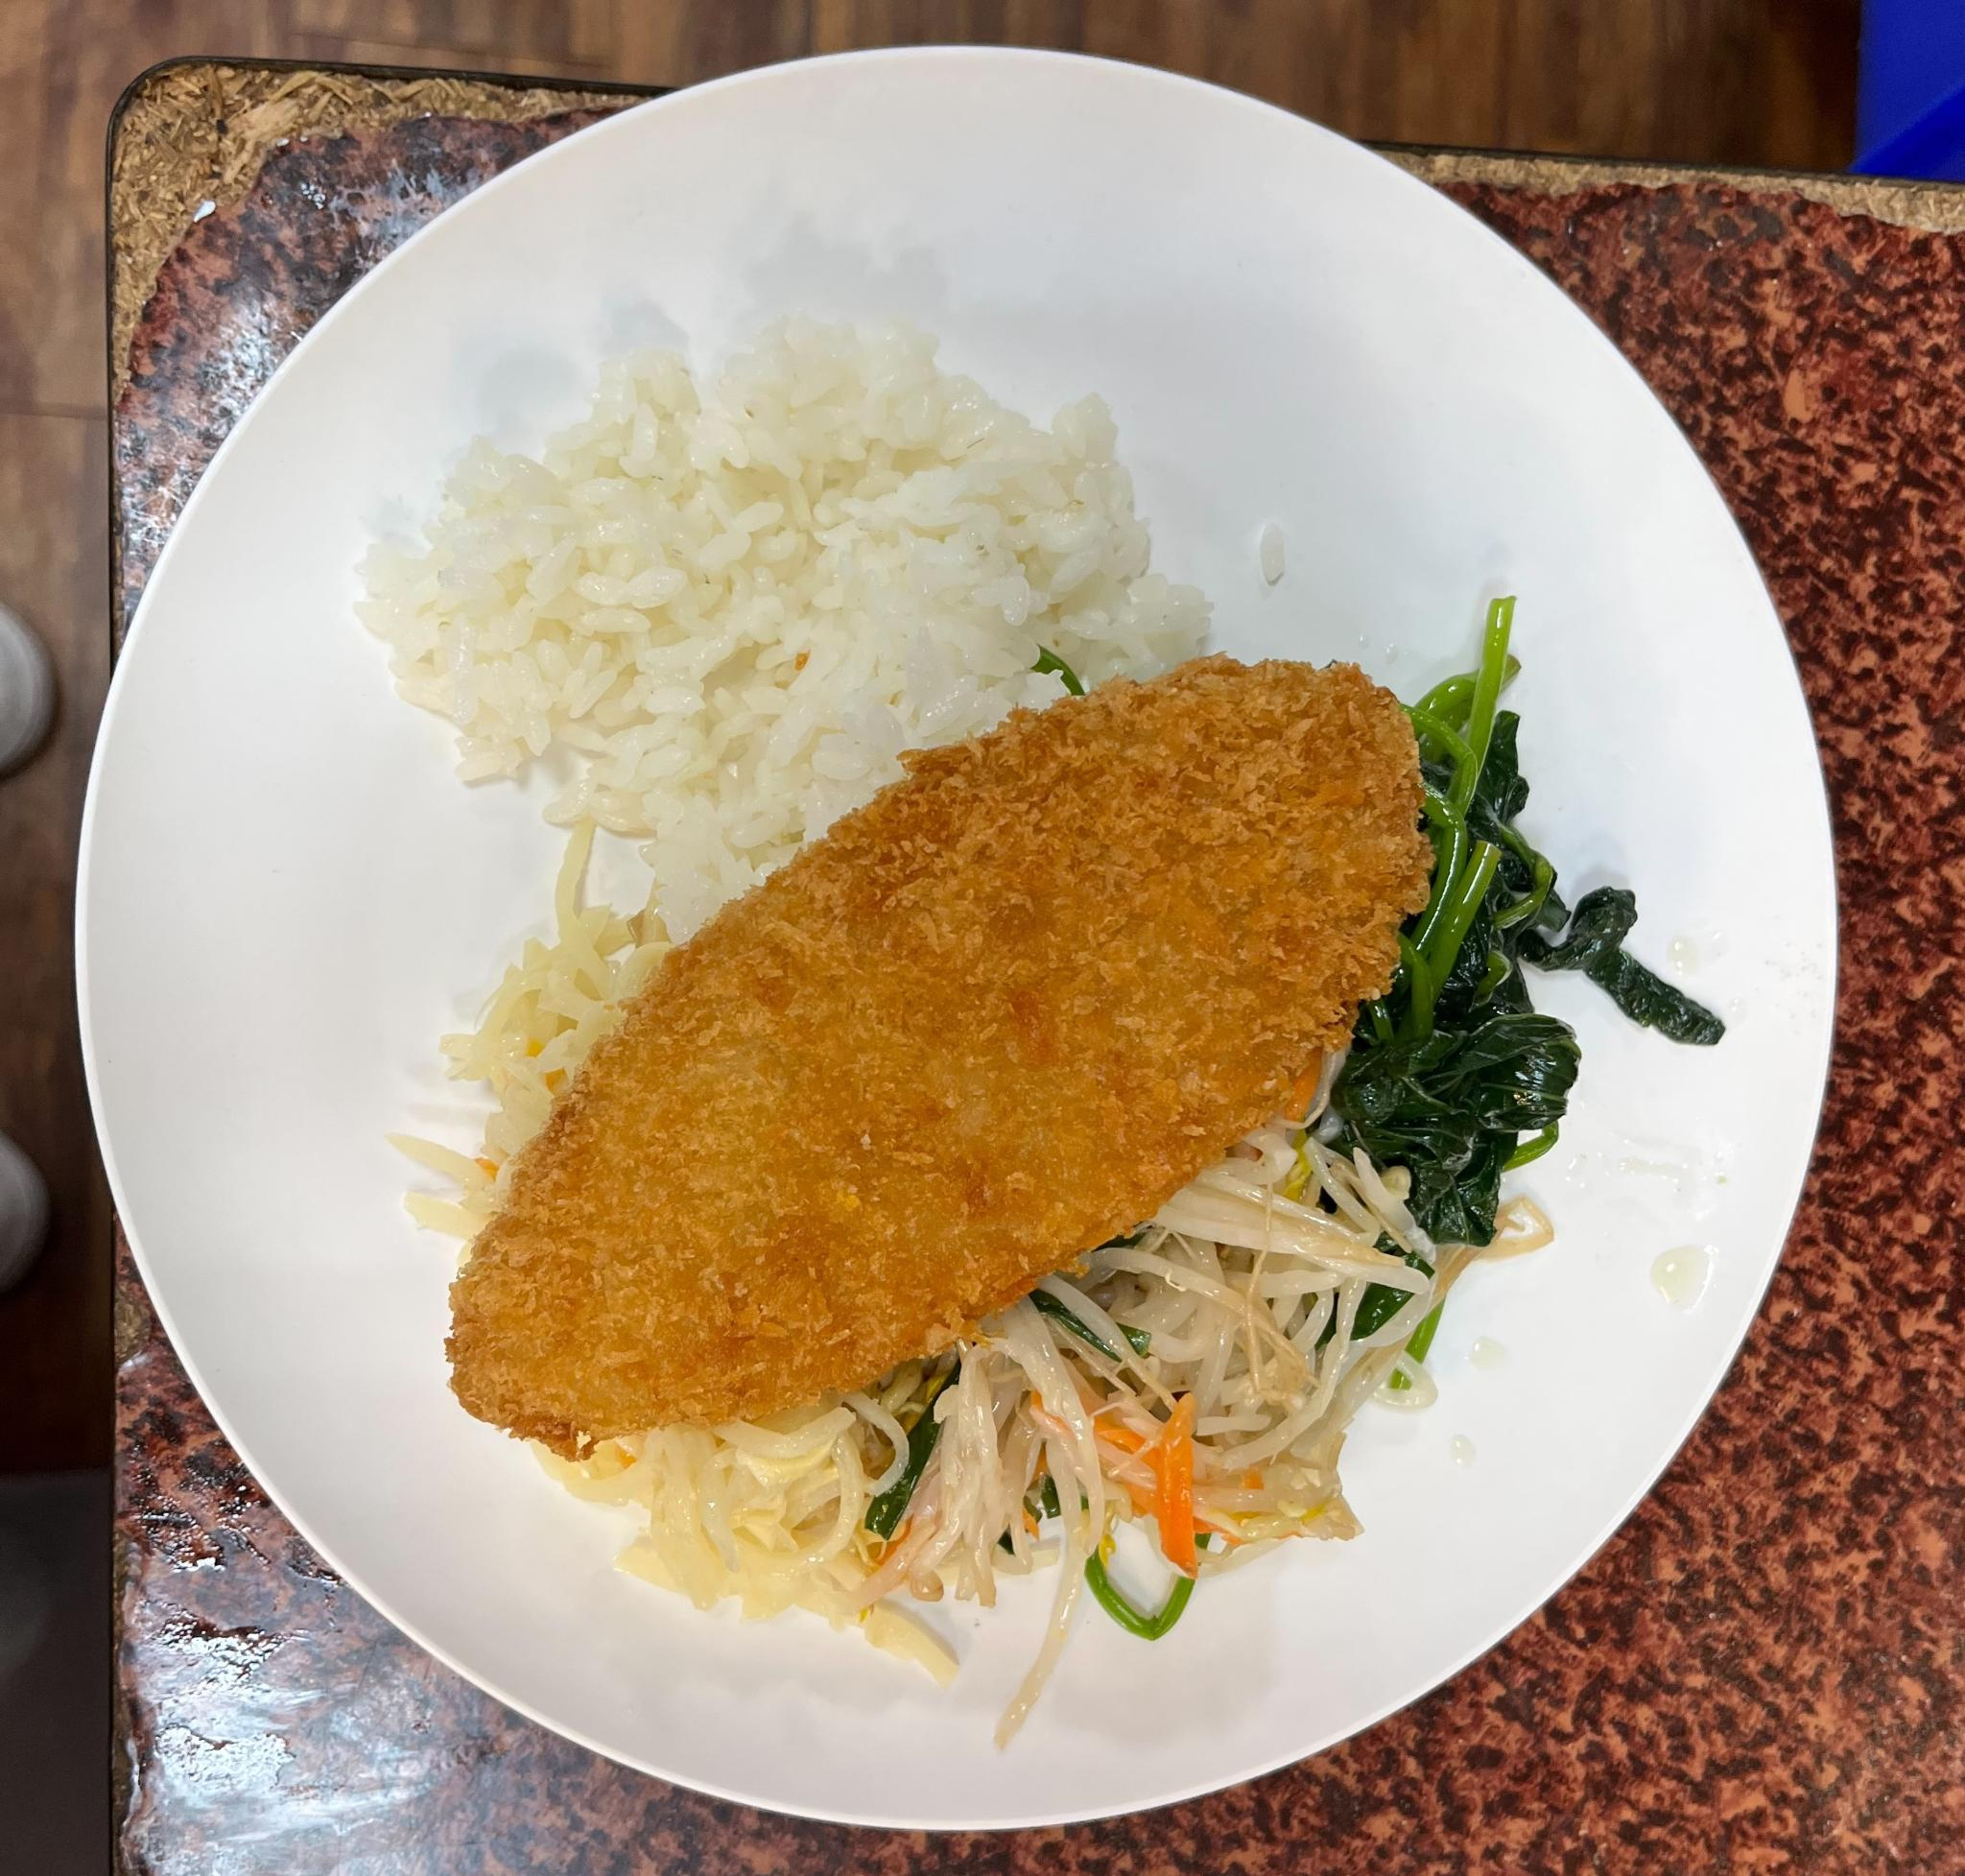big fried chicken leg: (53, 21, 1861, 1857)
big herbal chicken leg: (351, 325, 1242, 955)
braised fish fillet: (388, 856, 902, 1655), (916, 1116, 1418, 1571), (1346, 632, 1667, 1274)
braised pork: (414, 609, 1425, 1467)
